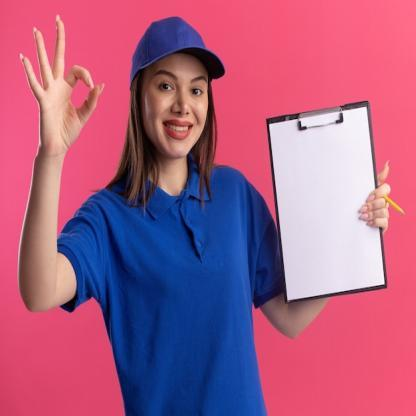ok: (15, 13, 106, 154)
